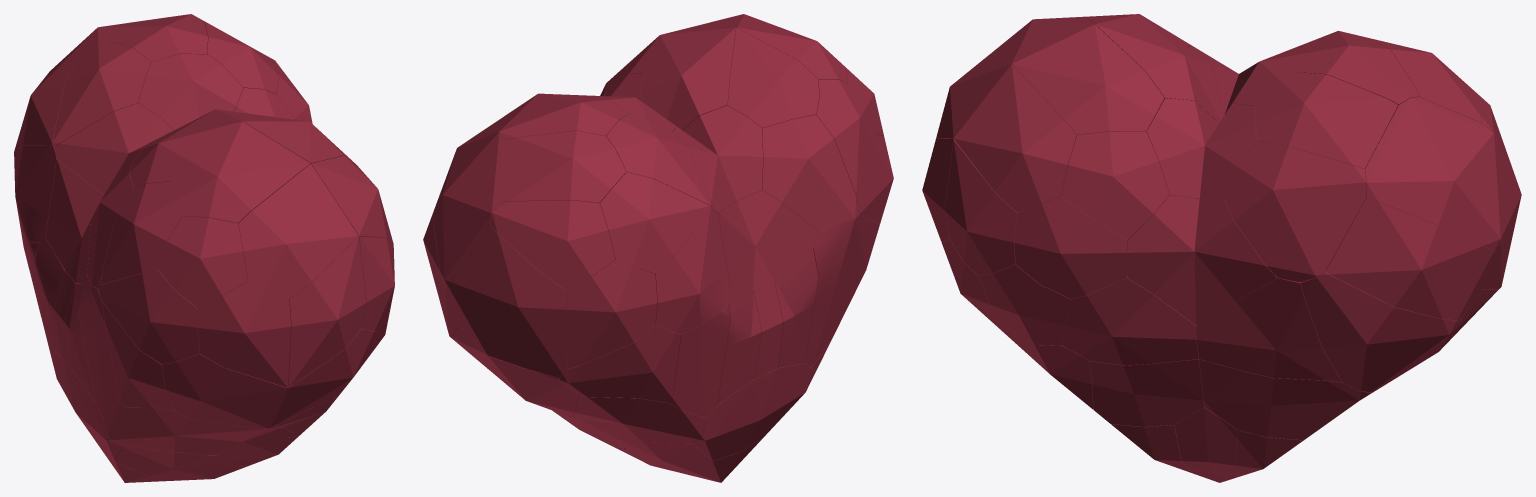
The model's file is dil.glb.
The picture shows the model from 3 angles, left to right: view 1: azimuth 30°, elevation 25°; view 2: azimuth 150°, elevation 25°; view 3: azimuth 270°, elevation 25°; orthographic projection. The views are drawn at different scales.
Parts seen in each view (by area): view 1: Heart_Full_cell.056, Heart_Full_cell.019, Heart_Full_cell.014, Heart_Full_cell.015, Heart_Full_cell.037, Heart_Full_cell.028, Heart_Full_cell.030, Heart_Full_cell.022, Heart_Full_cell.045, Heart_Full_cell.020, Heart_Full_cell.043, Heart_Full_cell.008 (+28 smaller); view 2: Heart_Full_cell.006, Heart_Full_cell.054, Heart_Full_cell.048, Heart_Full_cell.038, Heart_Full_cell.013, Heart_Full_cell.052, Heart_Full_cell.008, Heart_Full_cell.003, Heart_Full_cell.050, Heart_Full_cell.004, Heart_Full_cell.020, Heart_Full_cell.035 (+23 smaller); view 3: Heart_Full_cell.003, Heart_Full_cell.036, Heart_Full_cell.053, Heart_Full_cell.026, Heart_Full_cell.047, Heart_Full_cell.041, Heart_Full_cell.055, Heart_Full_cell.010, Heart_Full_cell.024, Heart_Full_cell.057, Heart_Full_cell.033, Heart_Full_cell.040 (+22 smaller).
Part boxes in pixels (box(x1,y1,x2,y2)): Heart_Full_cell.056: box(238, 164, 358, 298); Heart_Full_cell.019: box(170, 121, 310, 225); Heart_Full_cell.014: box(197, 279, 290, 387); Heart_Full_cell.015: box(288, 236, 366, 387); Heart_Full_cell.037: box(162, 353, 287, 428); Heart_Full_cell.028: box(98, 270, 199, 364); Heart_Full_cell.030: box(157, 216, 247, 308); Heart_Full_cell.022: box(52, 42, 151, 146); Heart_Full_cell.045: box(138, 54, 243, 130); Heart_Full_cell.020: box(54, 103, 173, 194); Heart_Full_cell.043: box(100, 181, 182, 284); Heart_Full_cell.008: box(45, 159, 103, 283); Heart_Full_cell.006: box(448, 226, 567, 377); Heart_Full_cell.054: box(762, 115, 858, 231); Heart_Full_cell.048: box(490, 200, 614, 290); Heart_Full_cell.038: box(499, 130, 626, 202); Heart_Full_cell.013: box(567, 259, 657, 368); Heart_Full_cell.052: box(599, 172, 711, 273); Heart_Full_cell.008: box(718, 190, 819, 291); Heart_Full_cell.003: box(433, 130, 504, 291); Heart_Full_cell.050: box(642, 207, 730, 334); Heart_Full_cell.004: box(727, 28, 819, 128); Heart_Full_cell.020: box(672, 105, 762, 212); Heart_Full_cell.035: box(640, 28, 735, 130); Heart_Full_cell.003: box(1365, 97, 1502, 251); Heart_Full_cell.036: box(1224, 141, 1366, 282); Heart_Full_cell.053: box(1325, 197, 1495, 320); Heart_Full_cell.026: box(1127, 195, 1277, 325); Heart_Full_cell.047: box(954, 64, 1076, 212); Heart_Full_cell.041: box(1012, 24, 1164, 134); Heart_Full_cell.055: box(1301, 271, 1460, 391); Heart_Full_cell.010: box(1196, 278, 1341, 382); Heart_Full_cell.024: box(1254, 72, 1398, 168); Heart_Full_cell.057: box(1062, 276, 1198, 365); Heart_Full_cell.033: box(1061, 131, 1169, 239); Heart_Full_cell.040: box(1014, 196, 1127, 298).
Bounding box in the file's own units: 1.96 × 2.45 × 3.
